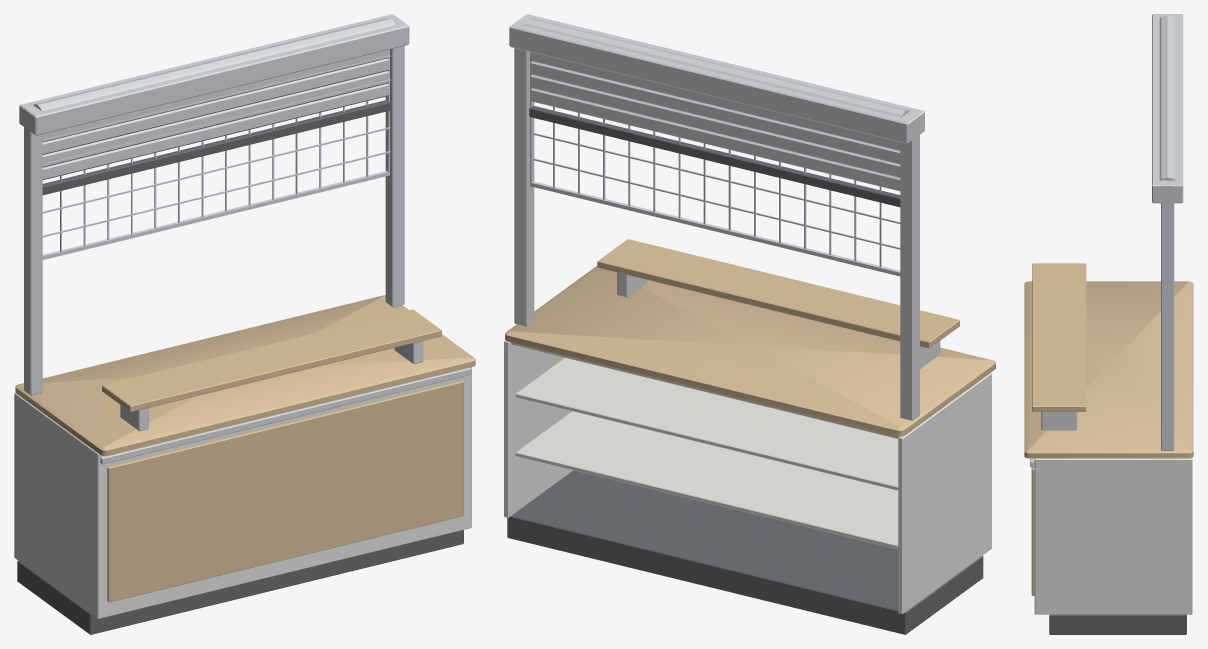
The picture shows the model from 3 angles, left to right: view 1: azimuth 30°, elevation 25°; view 2: azimuth 150°, elevation 25°; view 3: azimuth 270°, elevation 25°; orthographic projection. The views are drawn at different scales.
Parts seen in each view (by area): view 1: hire-desk, hire-shutter/metal, hire-shutter/dark; view 2: hire-desk, hire-shutter/metal, hire-shutter/dark; view 3: hire-desk.
Part boxes in pixels (bbox=[...]): hire-desk: bbox=[14, 14, 475, 634]; hire-shutter/metal: bbox=[42, 49, 389, 179]; hire-shutter/dark: bbox=[42, 100, 390, 195]; hire-desk: bbox=[504, 14, 995, 634]; hire-shutter/metal: bbox=[530, 52, 900, 191]; hire-shutter/dark: bbox=[529, 105, 900, 207]; hire-desk: bbox=[1024, 14, 1193, 634].
Bounding box in the file's own units: 1.8 × 2.22 × 0.75.
